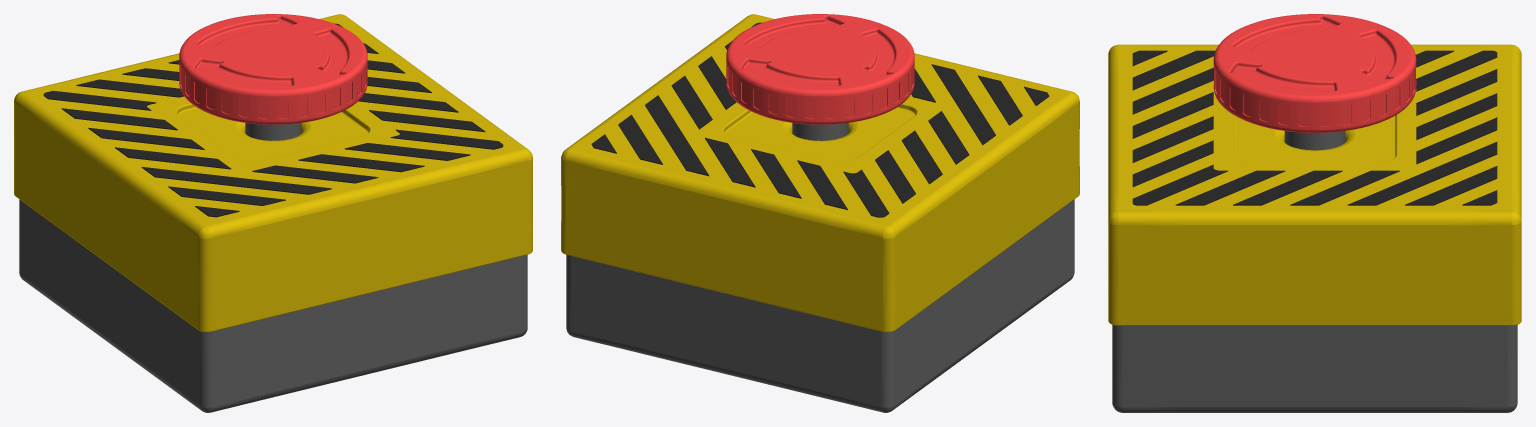
File: EmergencyButton.fbx
3 views of the same model, side by side, from view 1: azimuth 30°, elevation 25°; view 2: azimuth 150°, elevation 25°; view 3: azimuth 270°, elevation 25° (orthographic). The views are drawn at different scales.
Parts seen in each view (by area): view 1: CoverObj, BasaObj, ButtonObj, PatternObj, AxisObj; view 2: CoverObj, BasaObj, ButtonObj, PatternObj, AxisObj; view 3: CoverObj, BasaObj, ButtonObj, PatternObj, AxisObj.
Part boxes in pixels (bbox=[...]): CoverObj: bbox=[14, 14, 532, 332]; BasaObj: bbox=[19, 199, 527, 412]; ButtonObj: bbox=[179, 14, 367, 124]; PatternObj: bbox=[43, 23, 503, 217]; AxisObj: bbox=[245, 123, 301, 140]; CoverObj: bbox=[561, 14, 1079, 332]; BasaObj: bbox=[566, 199, 1074, 412]; ButtonObj: bbox=[726, 14, 914, 124]; PatternObj: bbox=[591, 22, 1049, 217]; AxisObj: bbox=[792, 123, 848, 140]; CoverObj: bbox=[1108, 44, 1521, 325]; BasaObj: bbox=[1112, 325, 1517, 412]; ButtonObj: bbox=[1213, 14, 1416, 132]; PatternObj: bbox=[1132, 50, 1497, 205]; AxisObj: bbox=[1284, 131, 1345, 150].
Bounding box in the file's own units: 20.4 × 15 × 20.4.
